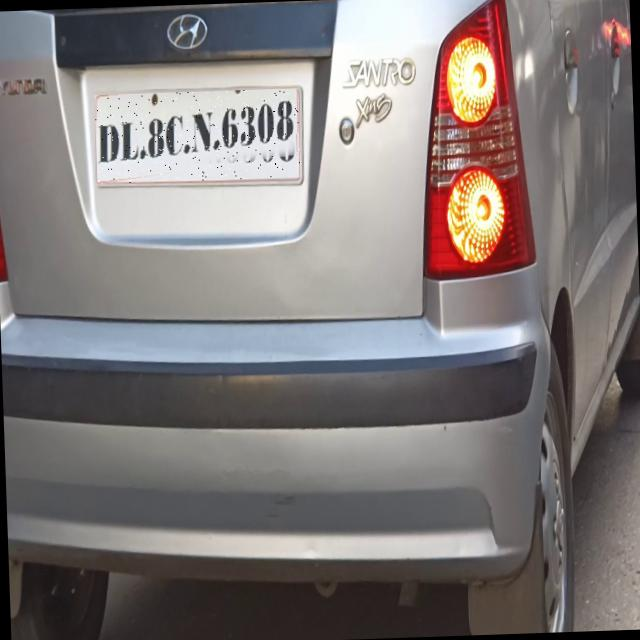Plate: (95, 89, 302, 185)
